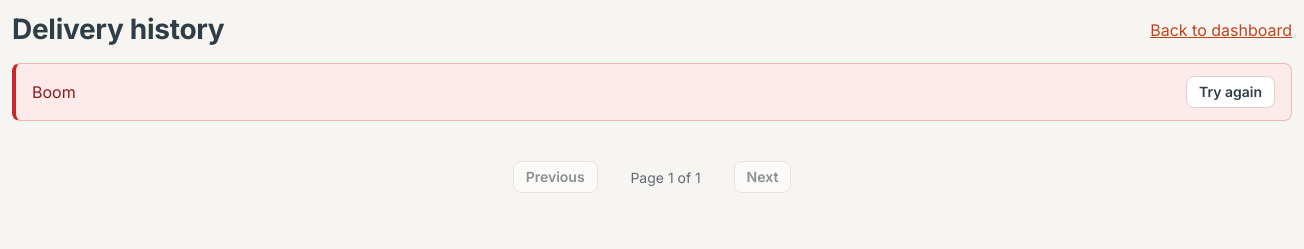
it: DeliveryHistory › shows error and retries
expect the text "Boom" is shown: met, box [32,82,76,102]
Click the button "Try again". click: [1230, 92]
box: [1186,76,1275,108]
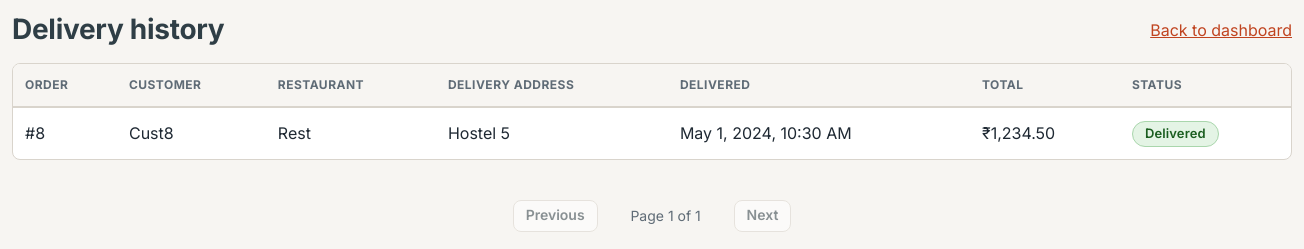
expect the text "#8" is shown: met, box [13,107,117,158]
